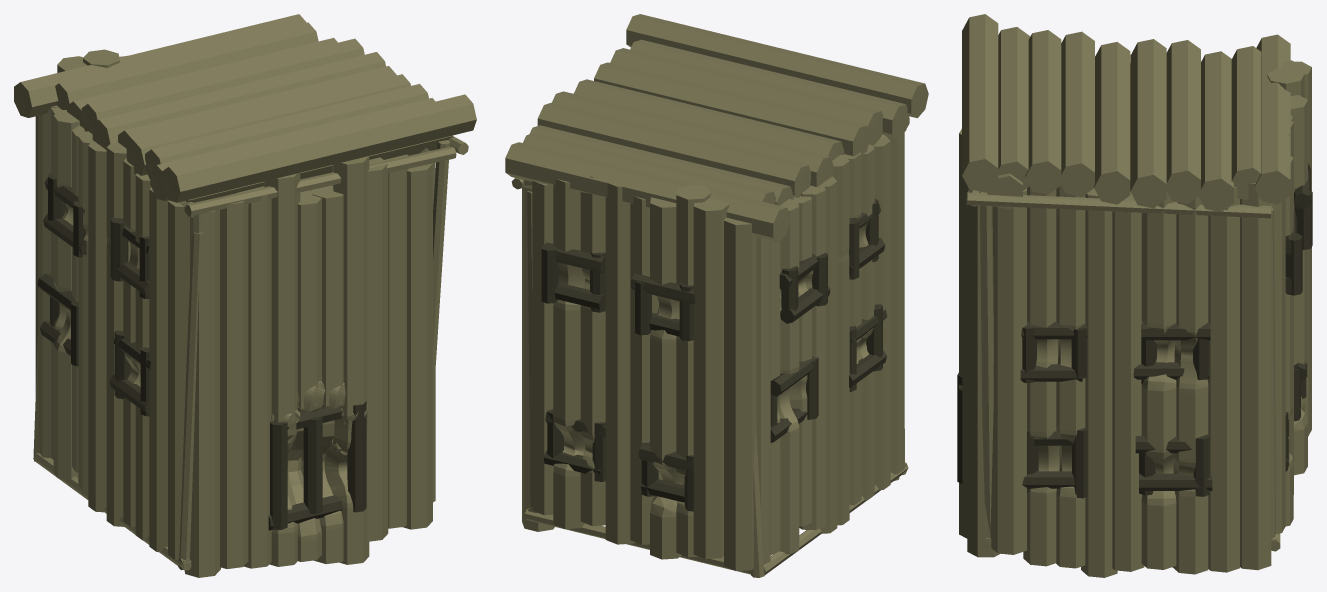
The model's file is TestBuilding.fbx.
3 renders of one model, left to right at view 1: azimuth 30°, elevation 25°; view 2: azimuth 150°, elevation 25°; view 3: azimuth 270°, elevation 25°, orthographic. The views are drawn at different scales.
Visible parts, largest first — view 1: Paint; view 2: Paint; view 3: Paint.
Part boxes in pixels (x1=…): Paint: x1=14, y1=14, x2=476, y2=577; Paint: x1=505, y1=14, x2=928, y2=577; Paint: x1=957, y1=14, x2=1312, y2=577.
Bounding box in the file's own units: 3.66 × 5.04 × 3.76.
